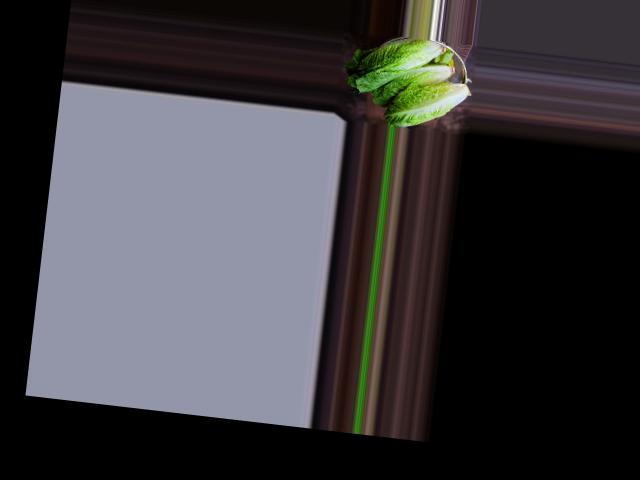lettuce: (345, 30, 454, 104)
